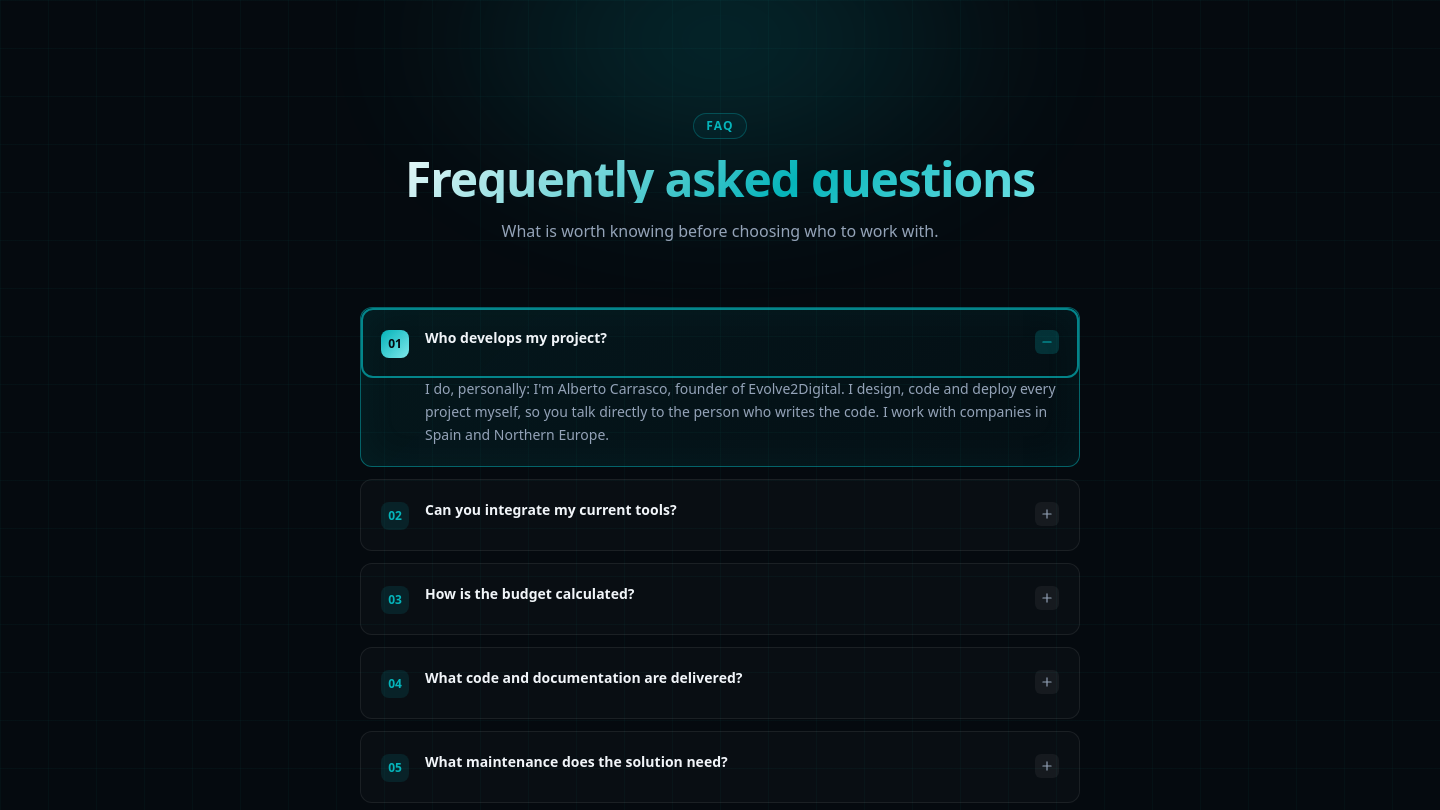
Scenario: FaqSection (en) › opens one answer at a time on click
Earlier steps of the test are not shown.
Expected: the element named "Who develops my project?" shows "I do, personally: I'm Alberto Carrasco, founder of Evolve2Digital. I design, code and deploy every project myself, so you talk directly to the person who writes", [425, 379, 1056, 444]
Click the button "02 Can you integrate my current tools?".
click(551, 510)  # box [361, 480, 1079, 550]
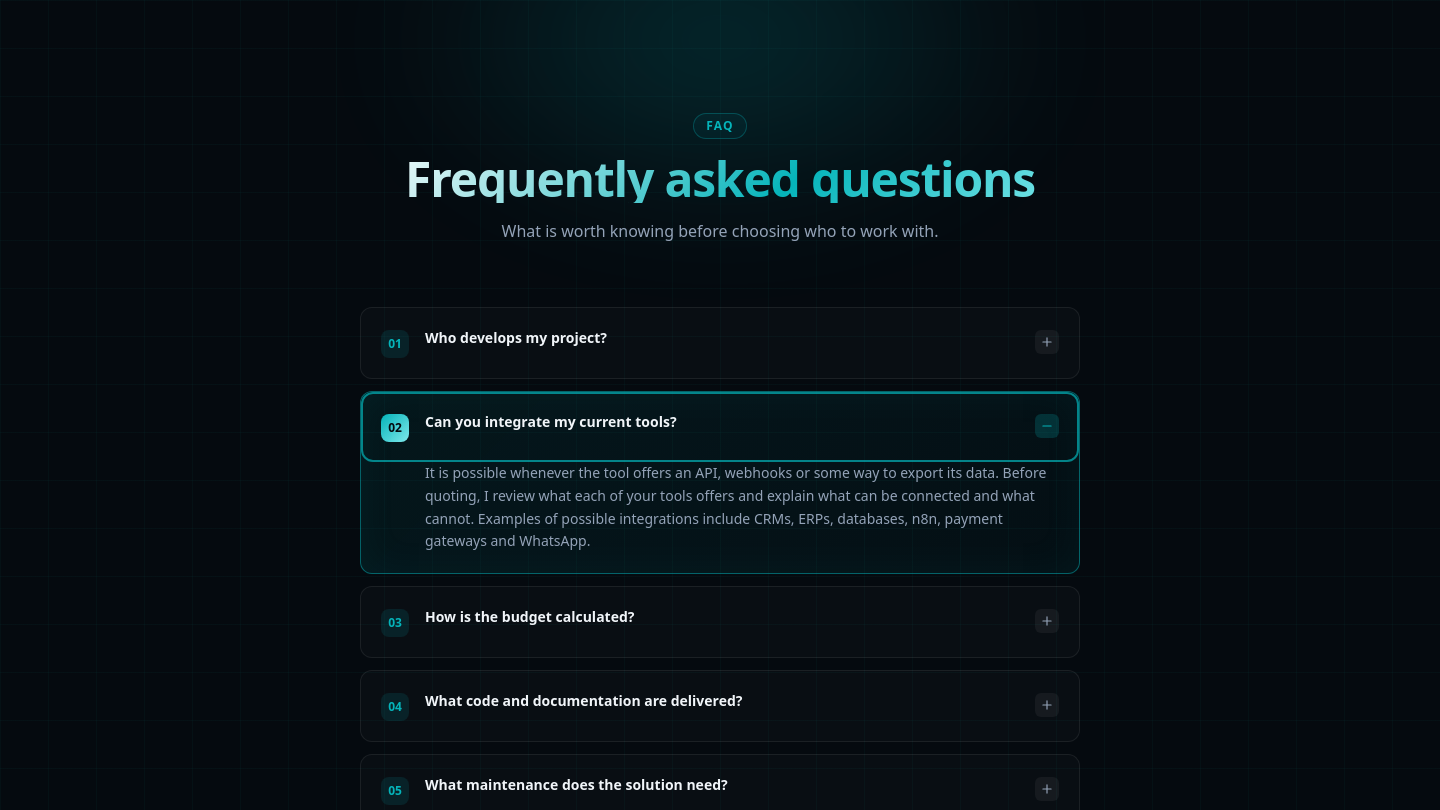
Result: the button "01 Who develops my project?" is collapsed at [361, 308, 1079, 378]
Result: the button "02 Can you integrate my current tools?" is expanded
Click the button "02 Can you integrate my current tools?".
click(551, 422)  # box [361, 392, 1079, 462]
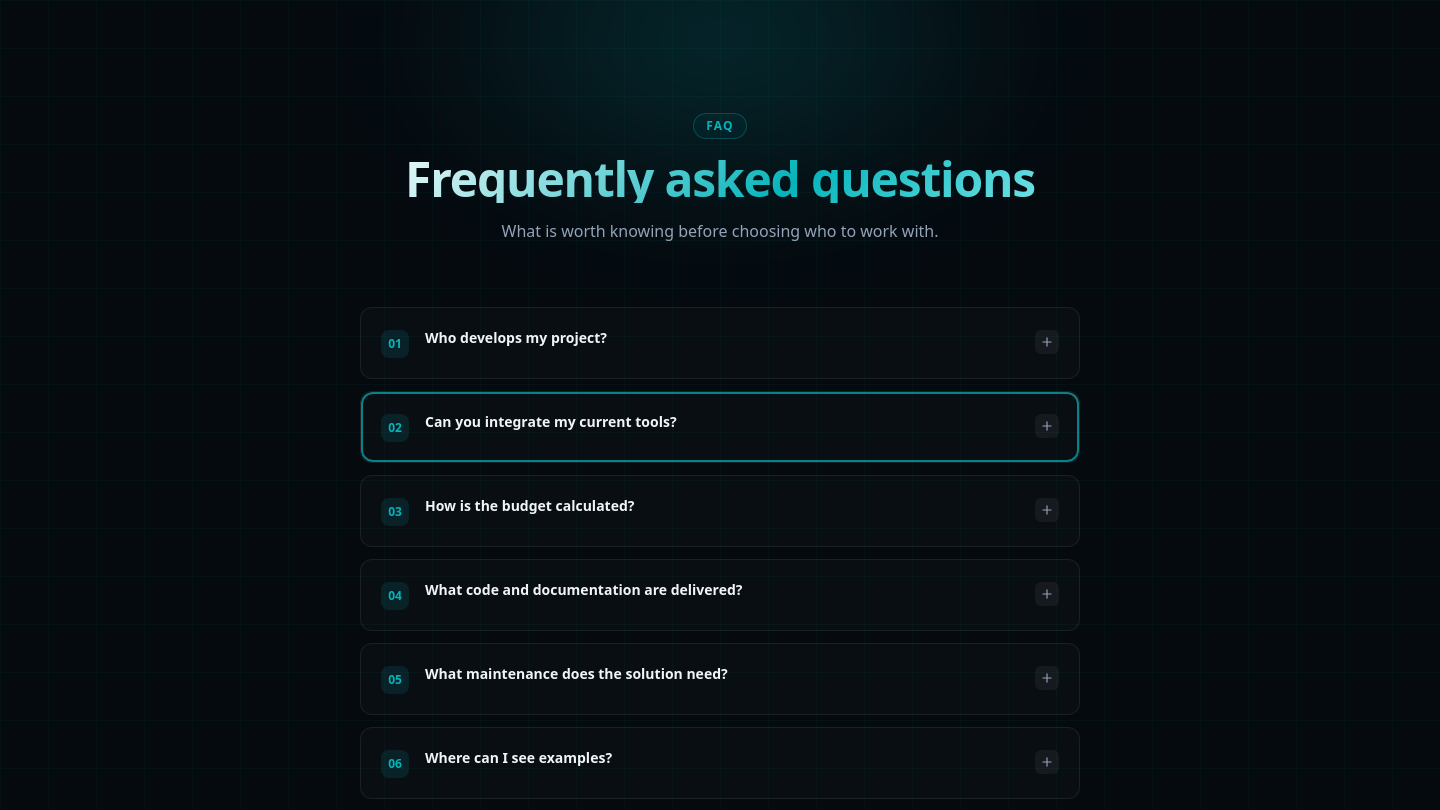
Result: the button "02 Can you integrate my current tools?" is collapsed at [361, 392, 1079, 462]
